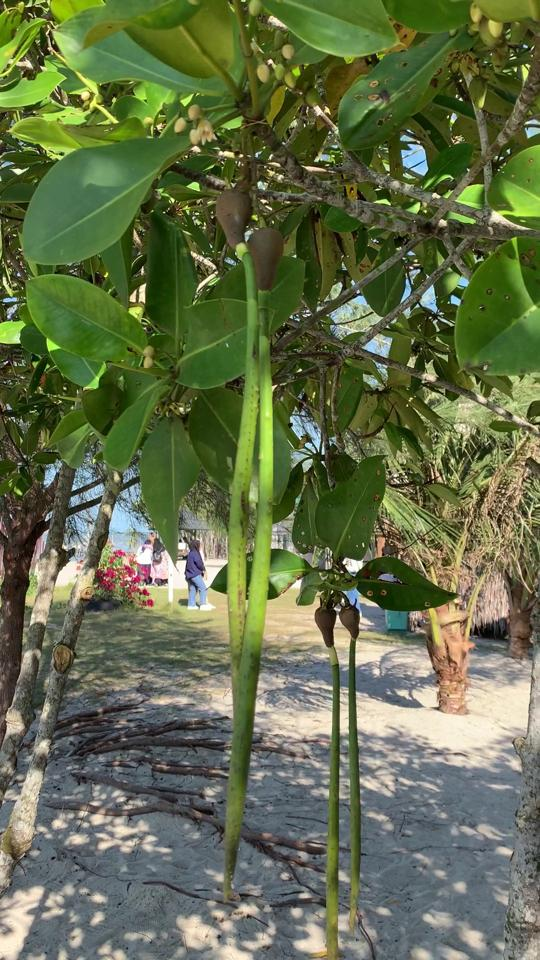setengah matang: (208, 178, 268, 762)
